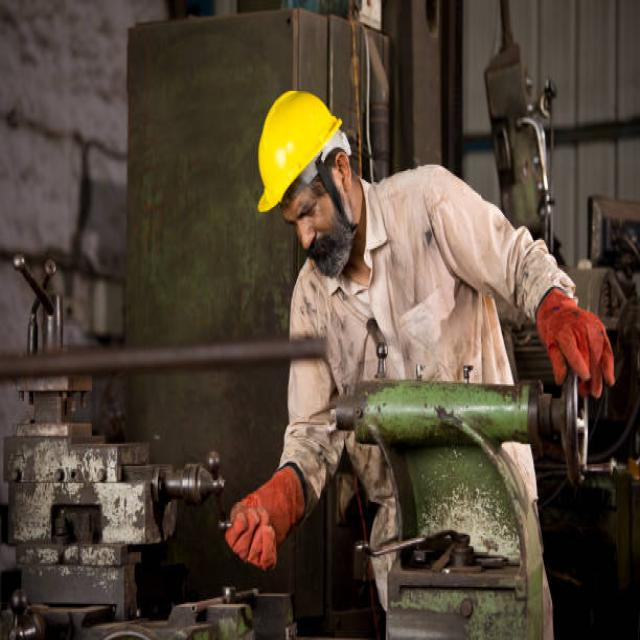Gloves: (225, 457, 312, 576), (538, 279, 617, 405)
helmet: (252, 89, 345, 220)
person: (223, 83, 614, 640)
